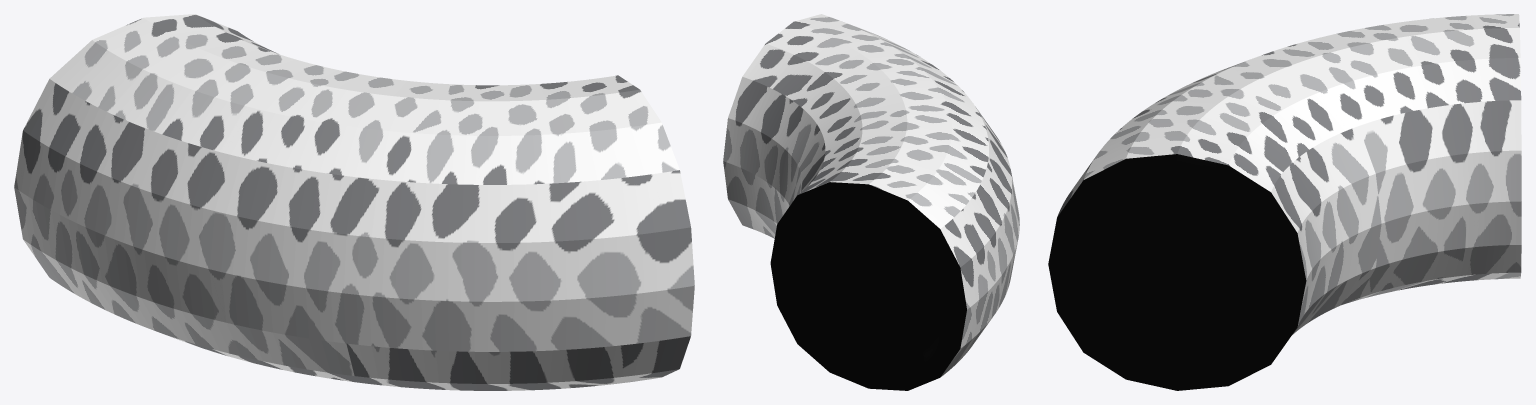
The model's file is snek_preopognjen_texture.glb.
3 views of the same model, side by side, from view 1: azimuth 30°, elevation 25°; view 2: azimuth 150°, elevation 25°; view 3: azimuth 270°, elevation 25° (orthographic). The views are drawn at different scales.
Visible parts, largest first — view 1: Cube; view 2: Cube; view 3: Cube.
Part boxes in pixels (box(x1,y1,x2,y2)): Cube: box(14, 14, 694, 390); Cube: box(723, 14, 1019, 390); Cube: box(1048, 14, 1521, 390).
Bounding box in the file's own units: 7.81 × 4.55 × 8.24.
Materials: 1 (1 with a texture image).
